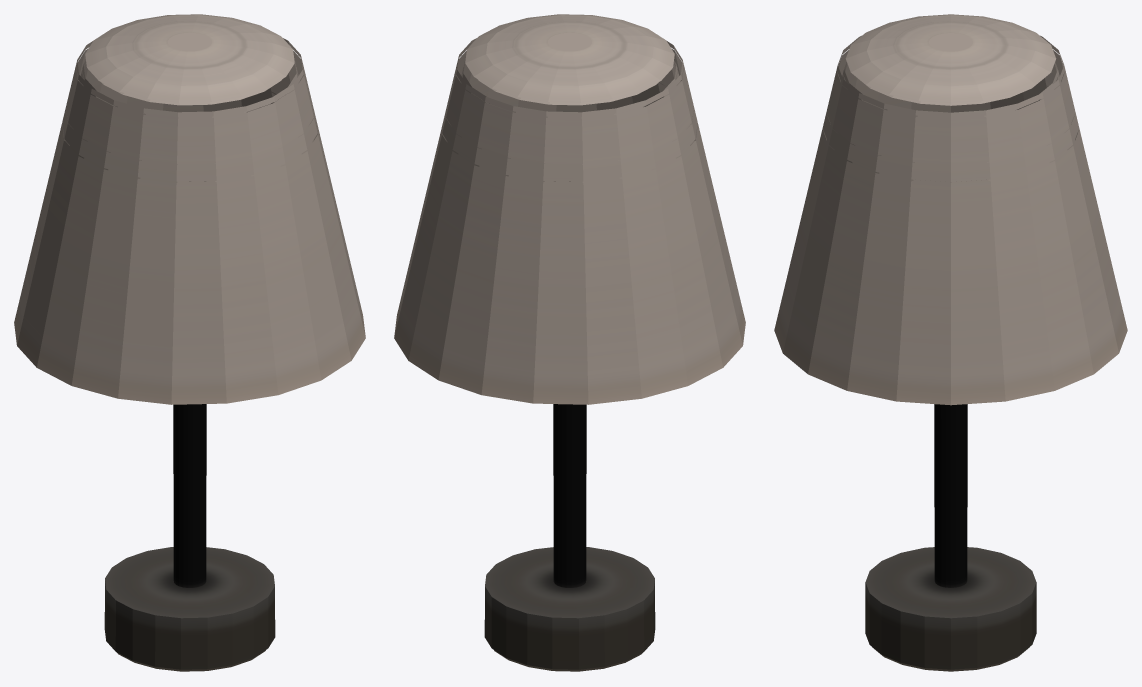
Rendered from lamp.obj.
3 views of the same model, side by side, from view 1: azimuth 30°, elevation 25°; view 2: azimuth 150°, elevation 25°; view 3: azimuth 270°, elevation 25° (orthographic).
Visible parts, largest first — view 1: lamp; view 2: lamp; view 3: lamp.
Part boxes in pixels (box(x1,y1,x2,y2)): lamp: box(14, 14, 365, 671); lamp: box(394, 14, 745, 671); lamp: box(774, 14, 1127, 671).
Size of the model in its own units: 0.5097 by 0.9457 by 0.5097.
